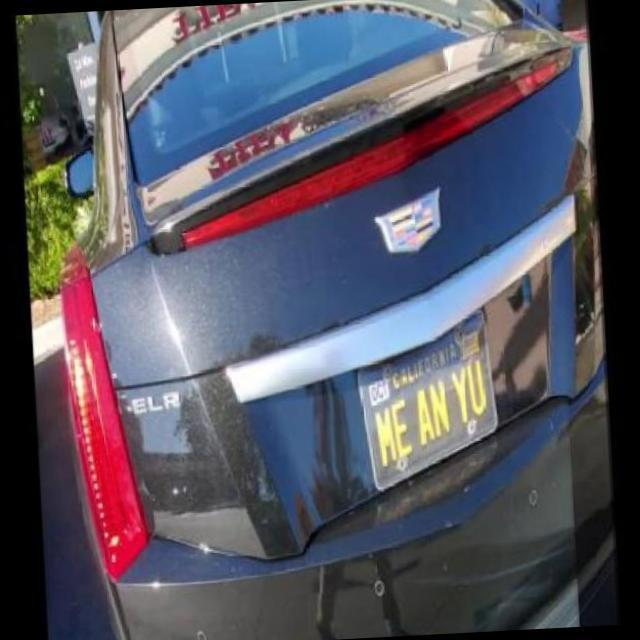license_plate: (357, 307, 495, 491)
